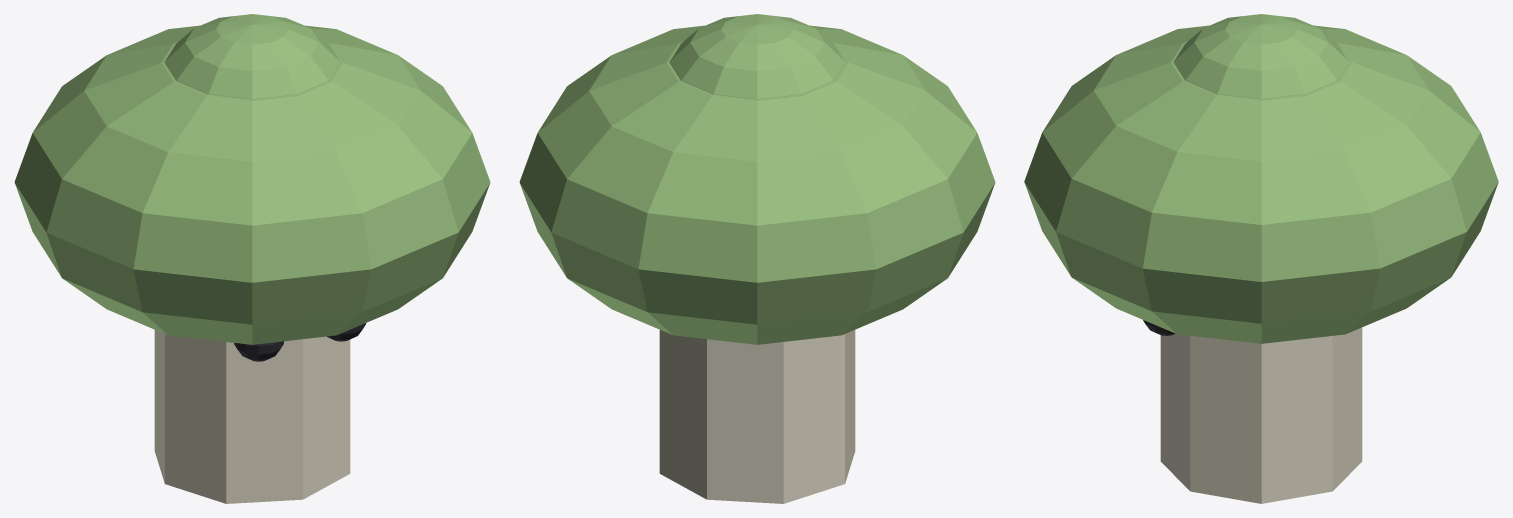
File: creature_mushroom_green.glb
The picture shows the model from 3 angles, left to right: view 1: azimuth 30°, elevation 25°; view 2: azimuth 150°, elevation 25°; view 3: azimuth 270°, elevation 25°; orthographic projection.
Parts seen in each view (by area): view 1: creature_mushroom_green; view 2: creature_mushroom_green; view 3: creature_mushroom_green.
Part boxes in pixels (x1,y1,x2,y2): creature_mushroom_green: (14,14,490,503); creature_mushroom_green: (519,14,995,503); creature_mushroom_green: (1024,14,1498,503).
Bounding box in the file's own units: 0.9852 × 1 × 0.9852.
